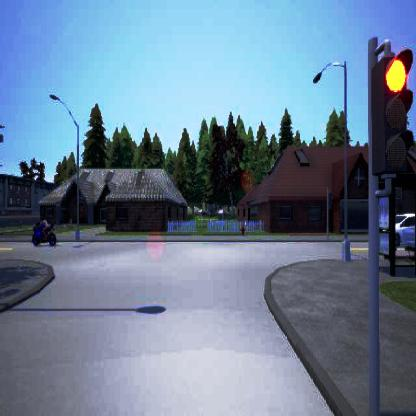motobike: (31, 221, 57, 245)
vehicle: (395, 212, 414, 246)
